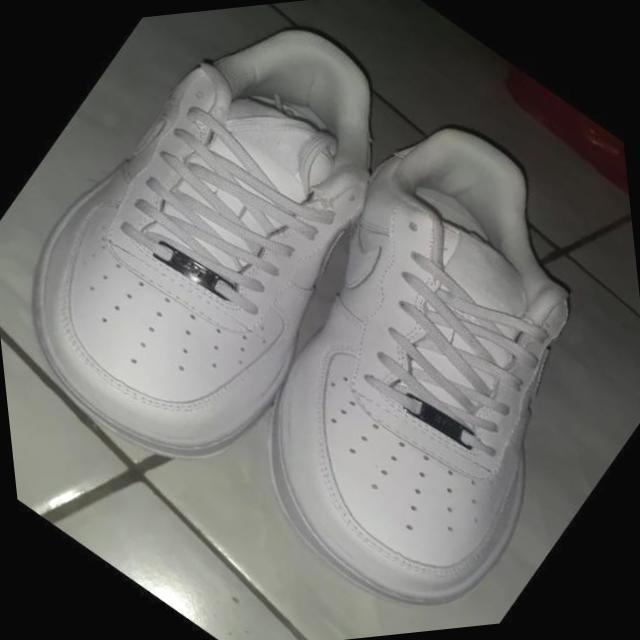nike_fake_airforce: (134, 72, 640, 640), (0, 0, 506, 518)
